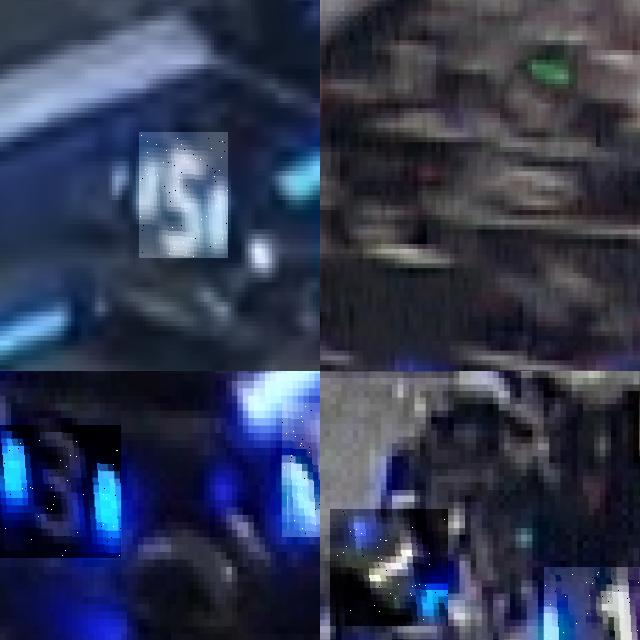B1: (330, 509, 448, 626), (543, 567, 640, 640)
B3: (0, 425, 121, 559), (281, 403, 320, 537)
B5: (139, 132, 228, 258)
